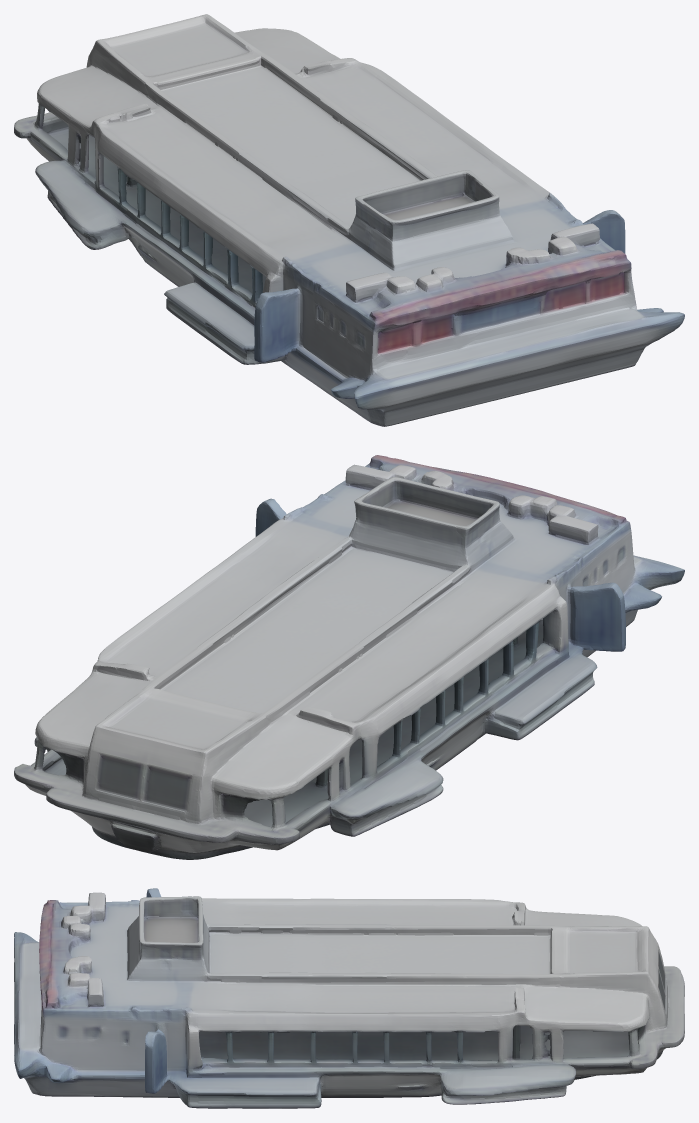
Rendered from london-boat.glb.
3 views of the same model, one above another, from view 1: azimuth 30°, elevation 25°; view 2: azimuth 150°, elevation 25°; view 3: azimuth 270°, elevation 25° (orthographic). The views are drawn at different scales.
Parts seen in each view (by area): view 1: world; view 2: world; view 3: world.
Part boxes in pixels (bbox=[...]): world: bbox=[14, 14, 684, 426]; world: bbox=[14, 455, 684, 859]; world: bbox=[14, 888, 684, 1108].
Size of the model in its own units: 0.5446 by 0.2001 by 1.
